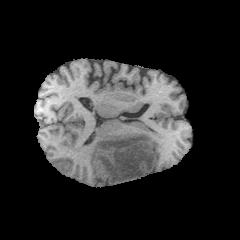glioma: (87, 132, 155, 182)
